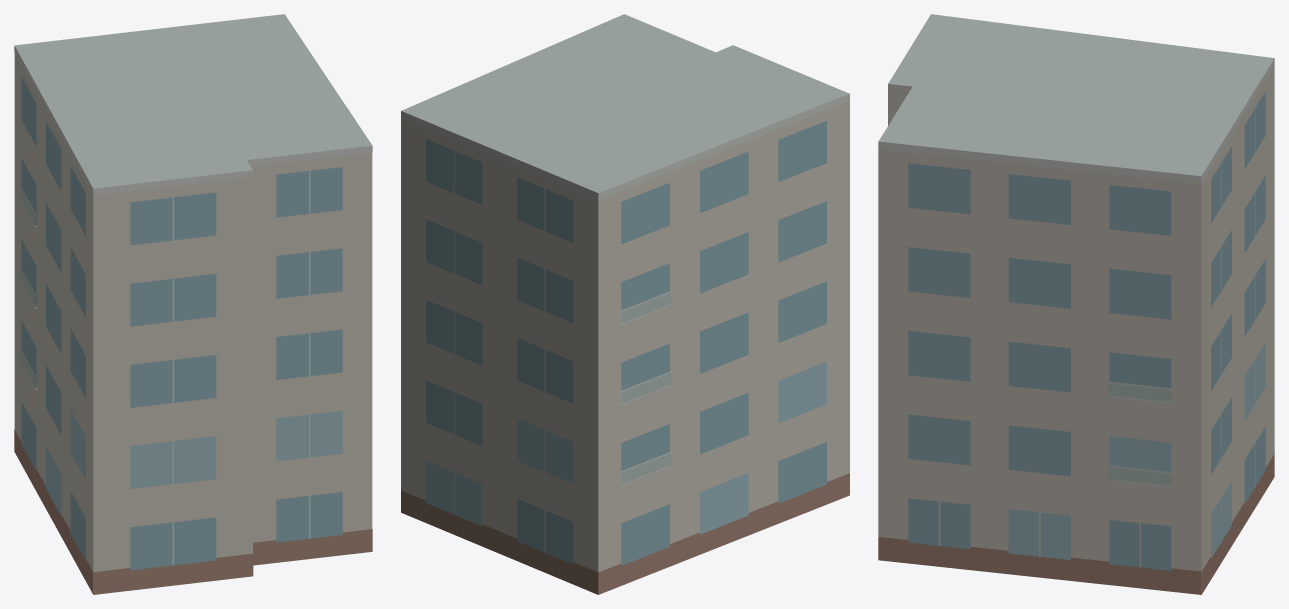
Rendered from survey-upis-32969681.glb.
The picture shows the model from 3 angles, left to right: view 1: azimuth 30°, elevation 25°; view 2: azimuth 150°, elevation 25°; view 3: azimuth 270°, elevation 25°; orthographic projection. The views are drawn at different scales.
Visible parts, largest first — view 1: survey-upis-32969681.tmp; view 2: survey-upis-32969681.tmp; view 3: survey-upis-32969681.tmp.
Boxes of the visible parts, x1=… form: survey-upis-32969681.tmp: x1=14, y1=14, x2=372, y2=594; survey-upis-32969681.tmp: x1=401, y1=14, x2=849, y2=594; survey-upis-32969681.tmp: x1=878, y1=14, x2=1274, y2=594.
Size of the model in its own units: 11.89 by 14.3 by 12.27.
